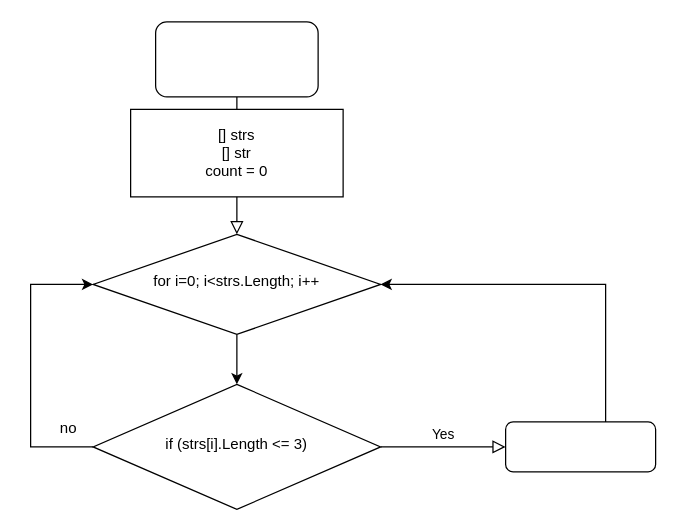
The diagram is 678 pixels wide and 531 high, and some of its shapes have lost their labels. Here are the shapes that lost their labels. From the top down, the box of each, then its label:
(154, 21, 318, 97): StringsNew
(504, 421, 656, 472): str[count] = strs[i] count++
